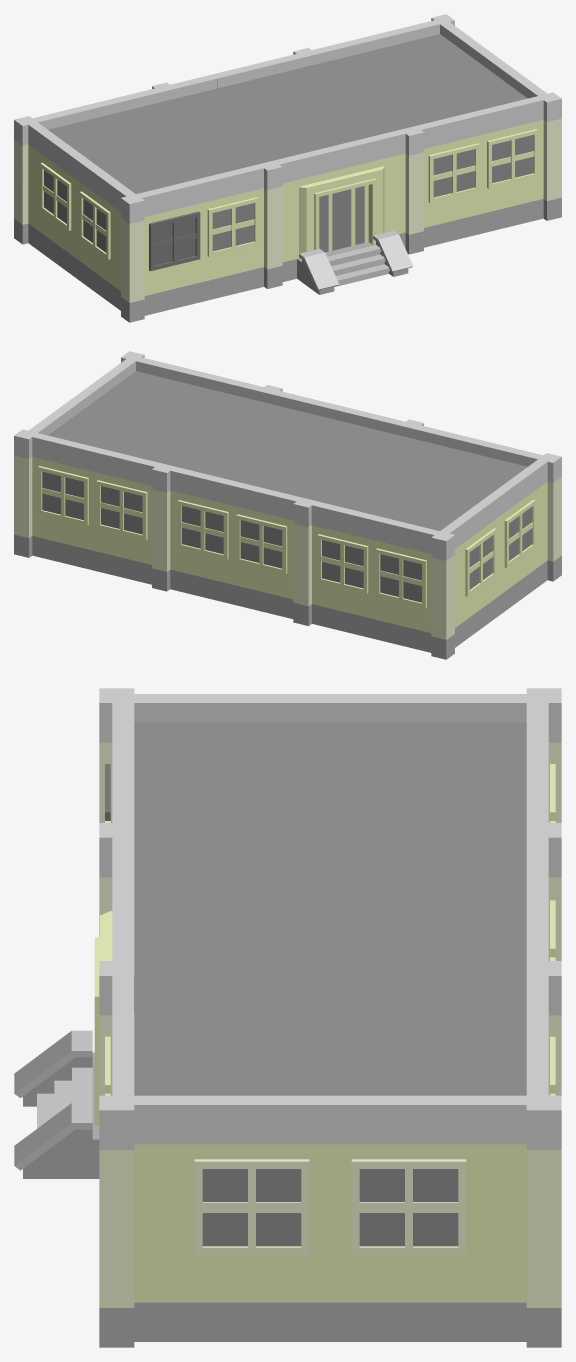
Rendered from building_green_office.fbx.
3 views of the same model, one above another, from view 1: azimuth 30°, elevation 25°; view 2: azimuth 150°, elevation 25°; view 3: azimuth 270°, elevation 25° (orthographic). The views are drawn at different scales.
Visible parts, largest first — view 1: building_green_office; view 2: building_green_office; view 3: building_green_office.
Part boxes in pixels (bbox=[...]): building_green_office: bbox=[14, 14, 561, 322]; building_green_office: bbox=[14, 351, 561, 659]; building_green_office: bbox=[14, 688, 561, 1347].
Bounding box in the file's own units: 458 × 120 × 251.
